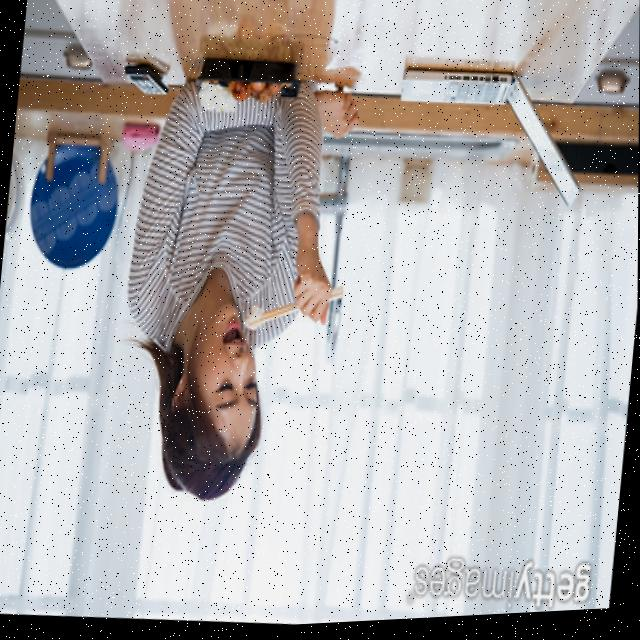eating-person: (96, 31, 387, 536)
